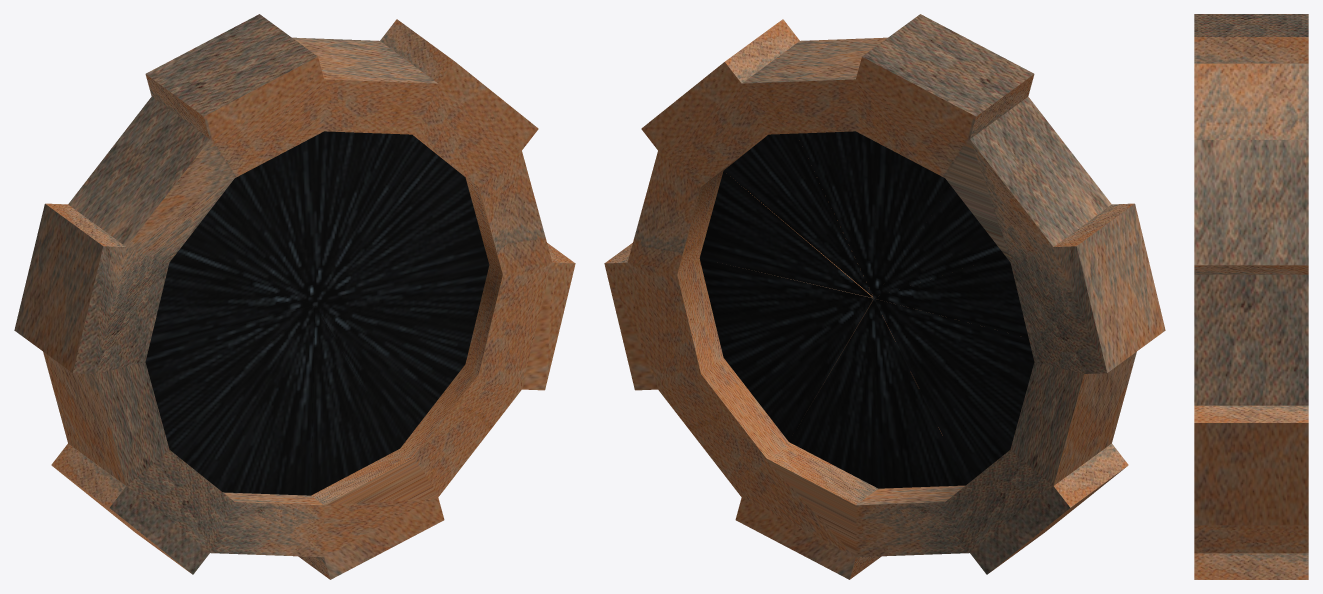
The model's file is teleport.FBX.
3 views of the same model, side by side, from view 1: azimuth 30°, elevation 25°; view 2: azimuth 150°, elevation 25°; view 3: azimuth 270°, elevation 25° (orthographic). The views are drawn at different scales.
Parts seen in each view (by area): view 1: Tube001; view 2: Tube001; view 3: Tube001.
Part boxes in pixels (x1=…): Tube001: x1=14, y1=14, x2=575, y2=579; Tube001: x1=604, y1=14, x2=1165, y2=579; Tube001: x1=1194, y1=14, x2=1308, y2=579.
Size of the model in its own units: 7.42 by 7.42 by 1.49.
